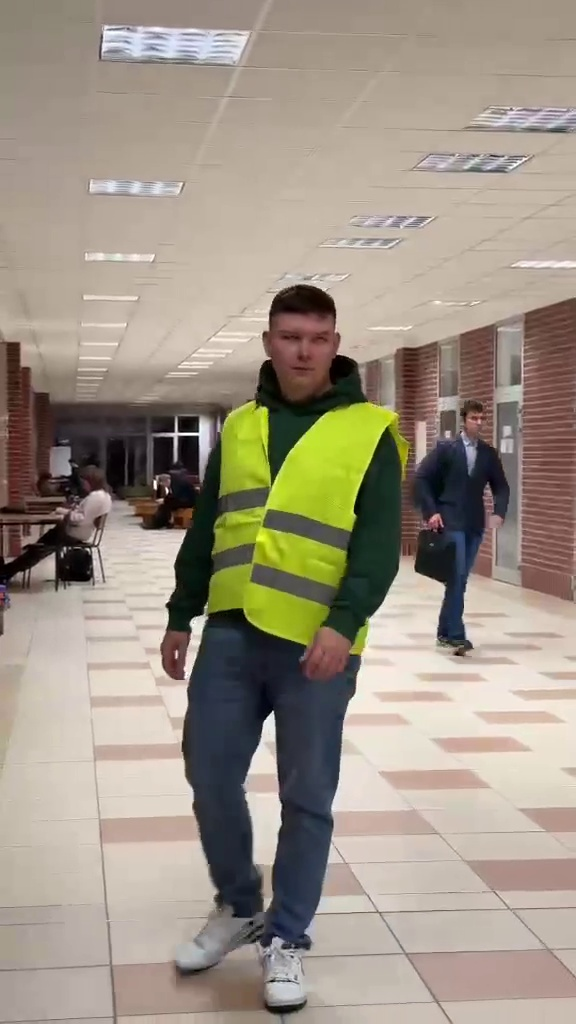no vest: (416, 394, 507, 651), (4, 459, 117, 585)
vest: (171, 276, 405, 1001)
